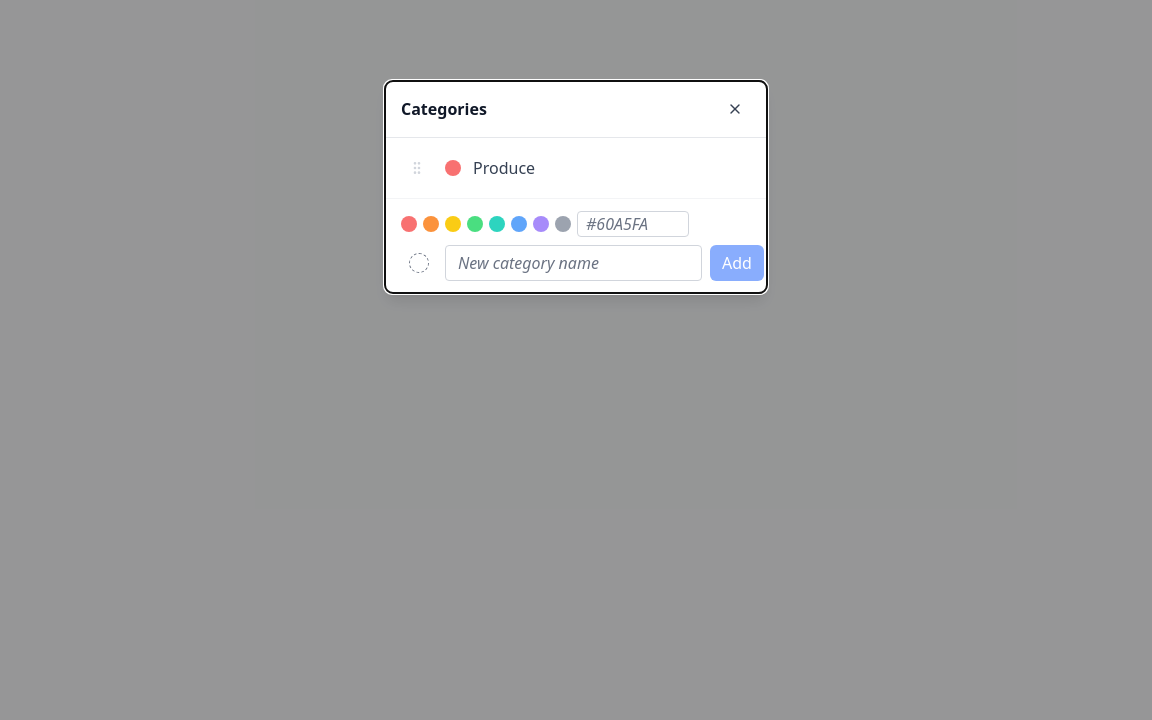
CategoryConfigDialog color swatches › commits normalized existing custom hex colors on Enter and rejects invalid values
Click the button named "Edit color for Produce". click: (453,168)
box: x1=437 y1=152 x2=469 y2=184
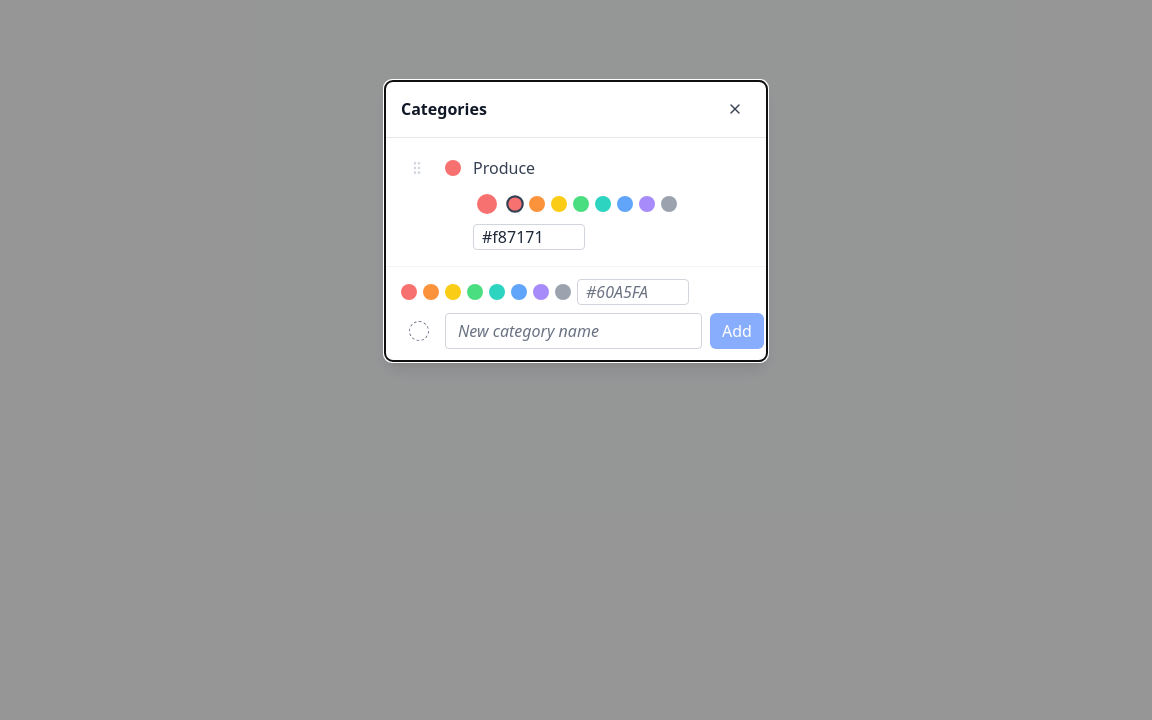
Replace the text in the field named "Color for Produce custom hex" with "#3af". click: (529,237)
box: x1=473 y1=224 x2=585 y2=250
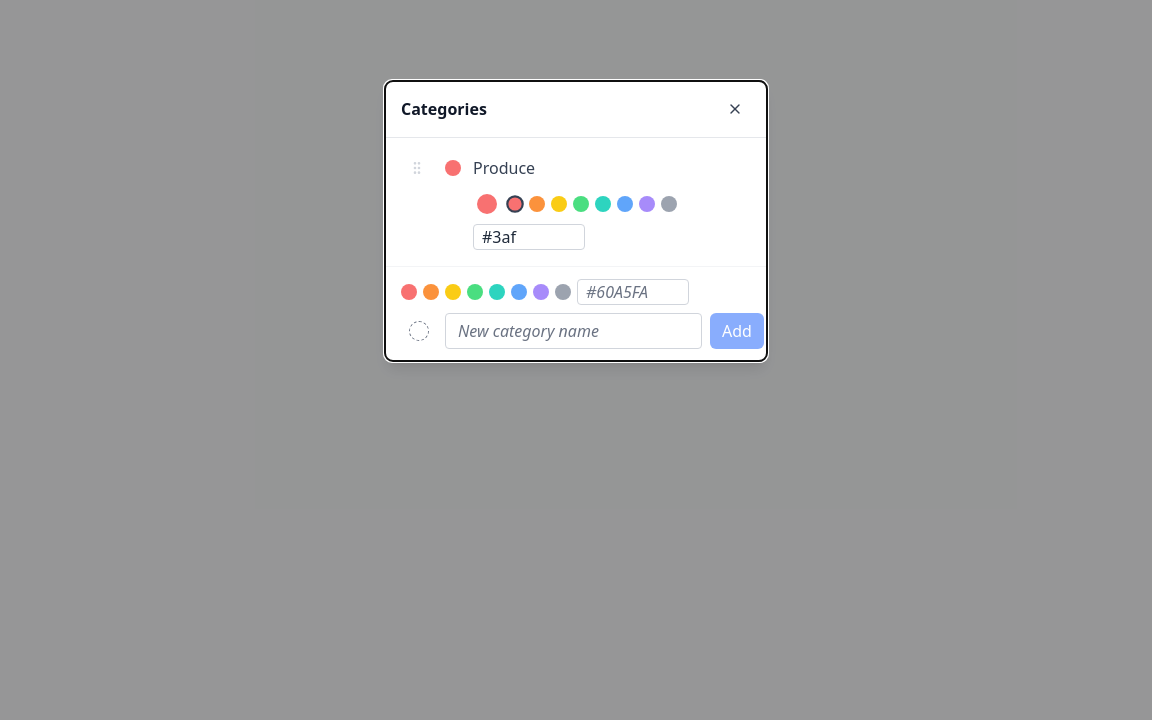
Press Enter in the field named "Color for Produce custom hex", box x1=473 y1=224 x2=585 y2=250
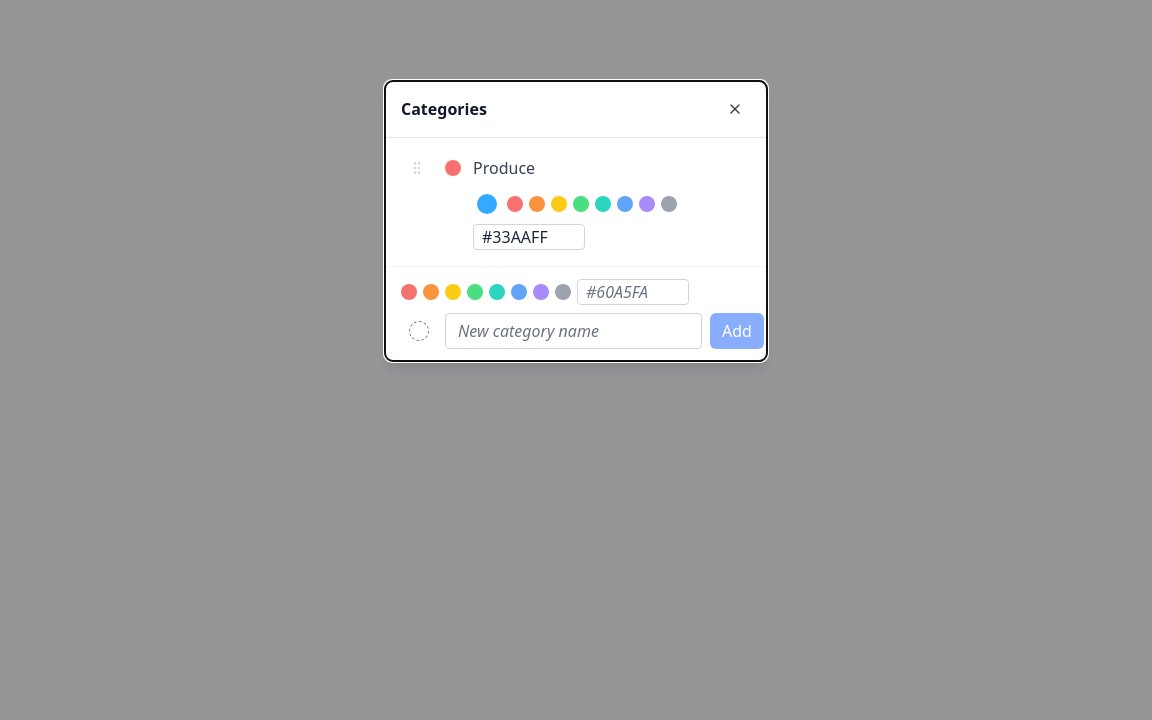
Replace the text in the field named "Color for Produce custom hex" with "#nope". click: (529,237)
box: x1=473 y1=224 x2=585 y2=250
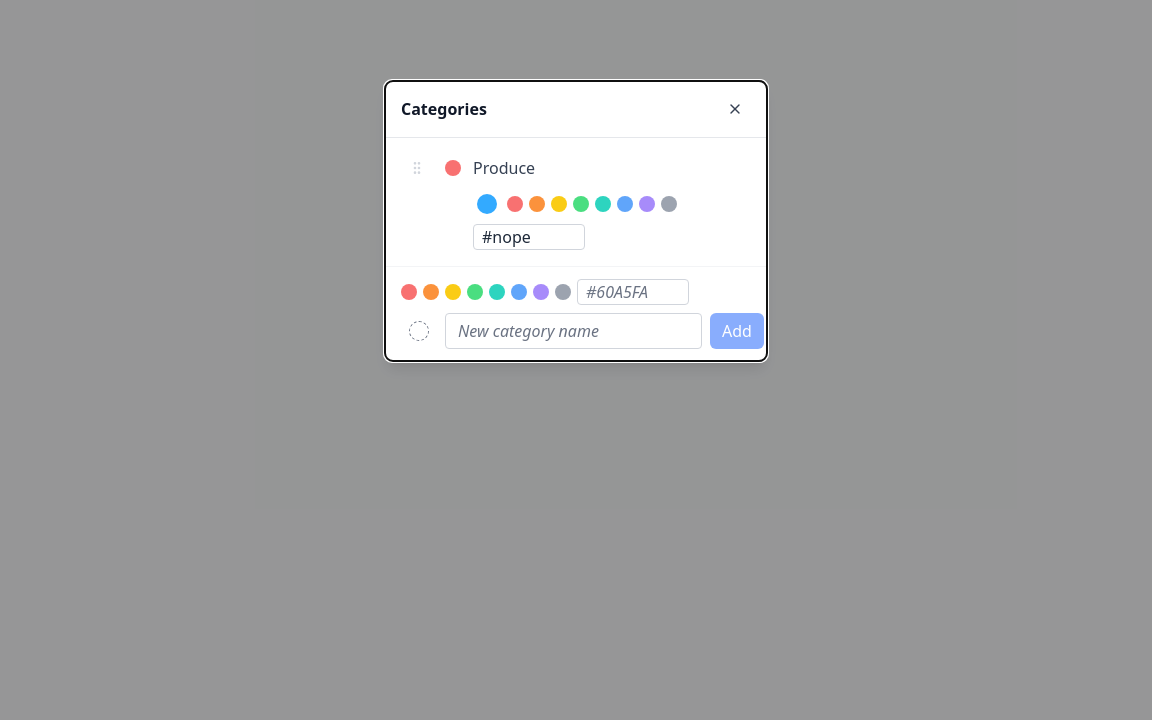
Press Enter in the field named "Color for Produce custom hex", box x1=473 y1=224 x2=585 y2=250
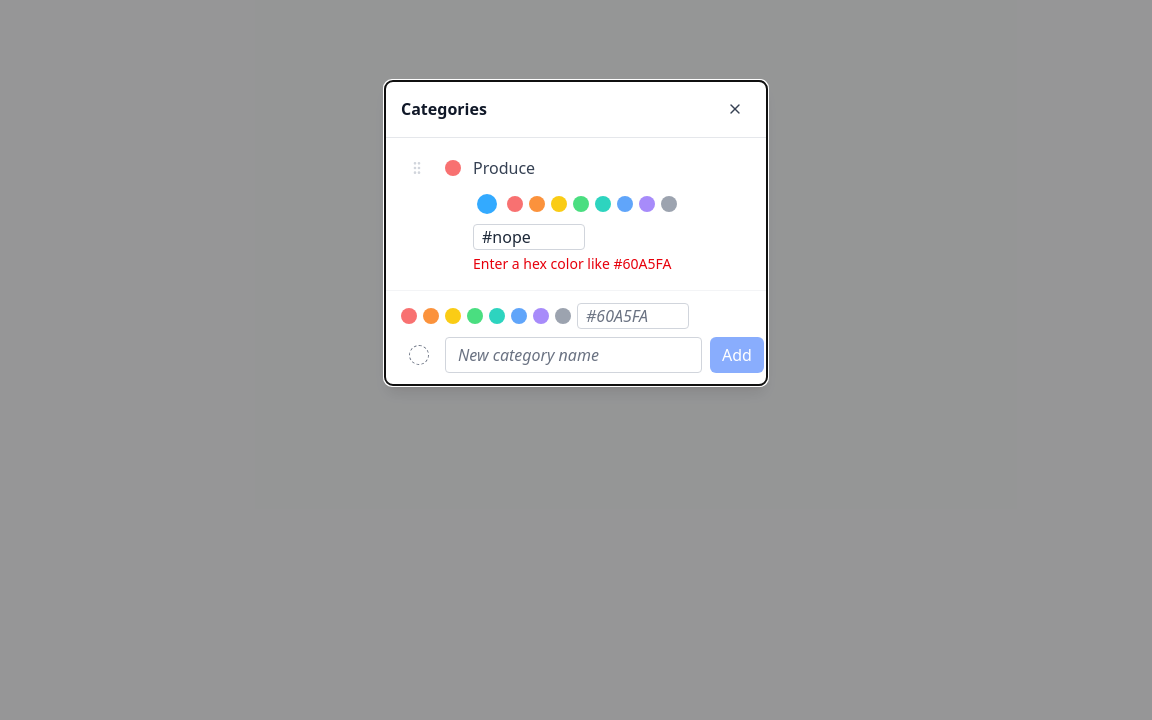
expect the text "Enter a hex color like #60A5FA" is shown: met, box x1=473 y1=254 x2=672 y2=273
